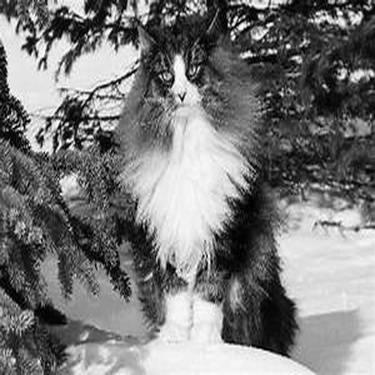cat: (121, 6, 303, 337)
